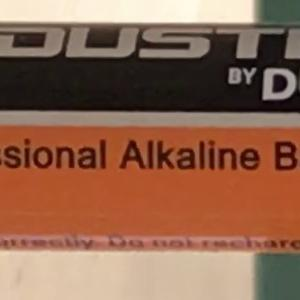ALK: (109, 130, 164, 179)
